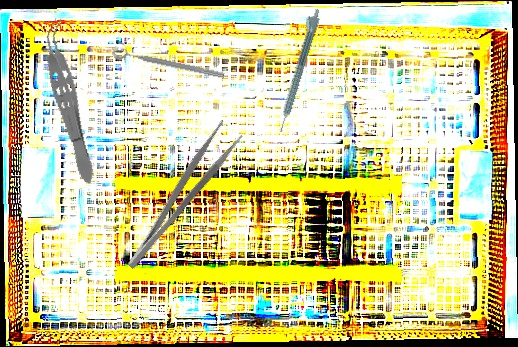Dressing Forceps: (112, 118, 246, 273)
Fixation Ring: (111, 39, 227, 82)
Handpiece: (271, 6, 323, 134)
Tissue Forceps: (35, 16, 103, 187)
